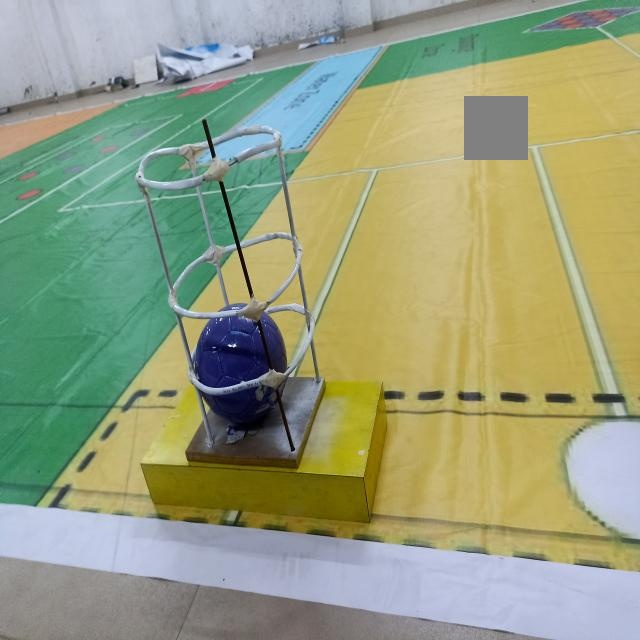purple_ball: (192, 291, 291, 423)
silo: (138, 121, 322, 467)
